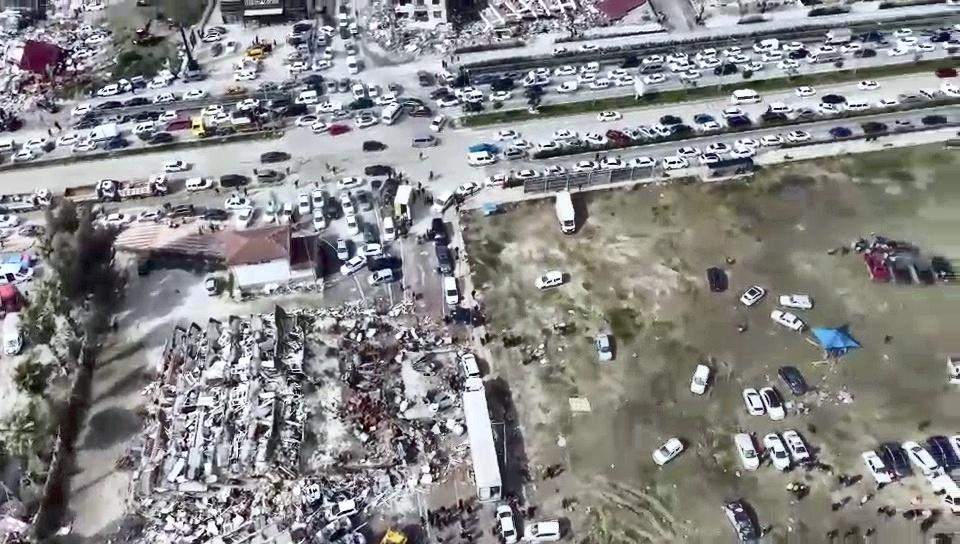kapali: (324, 275, 491, 543)
